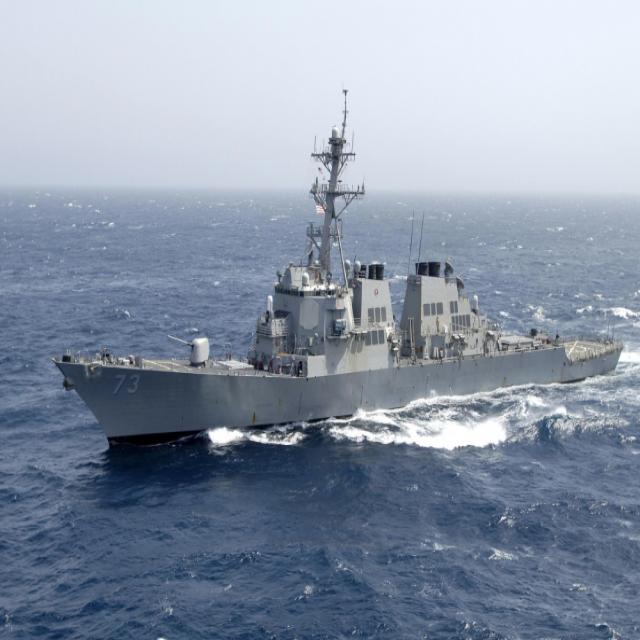navalvessels: (40, 92, 630, 435)
